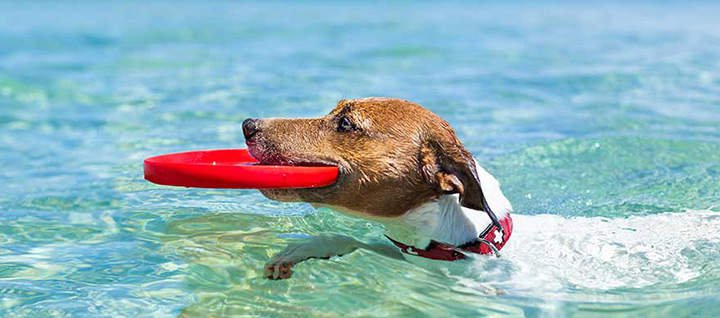dog: (230, 77, 540, 294)
